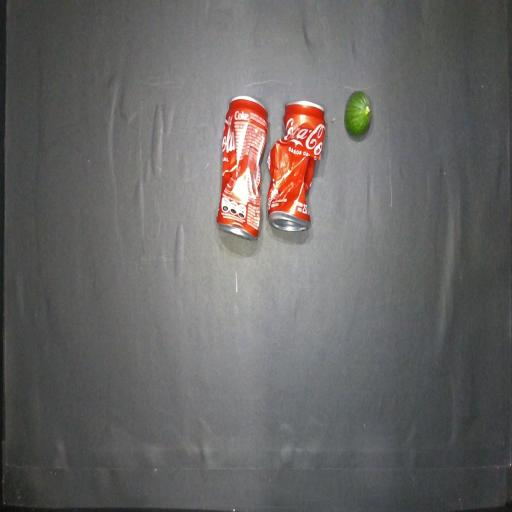higo: (345, 91, 371, 136)
lata_defectuoso: (268, 101, 325, 231), (217, 96, 268, 239)
